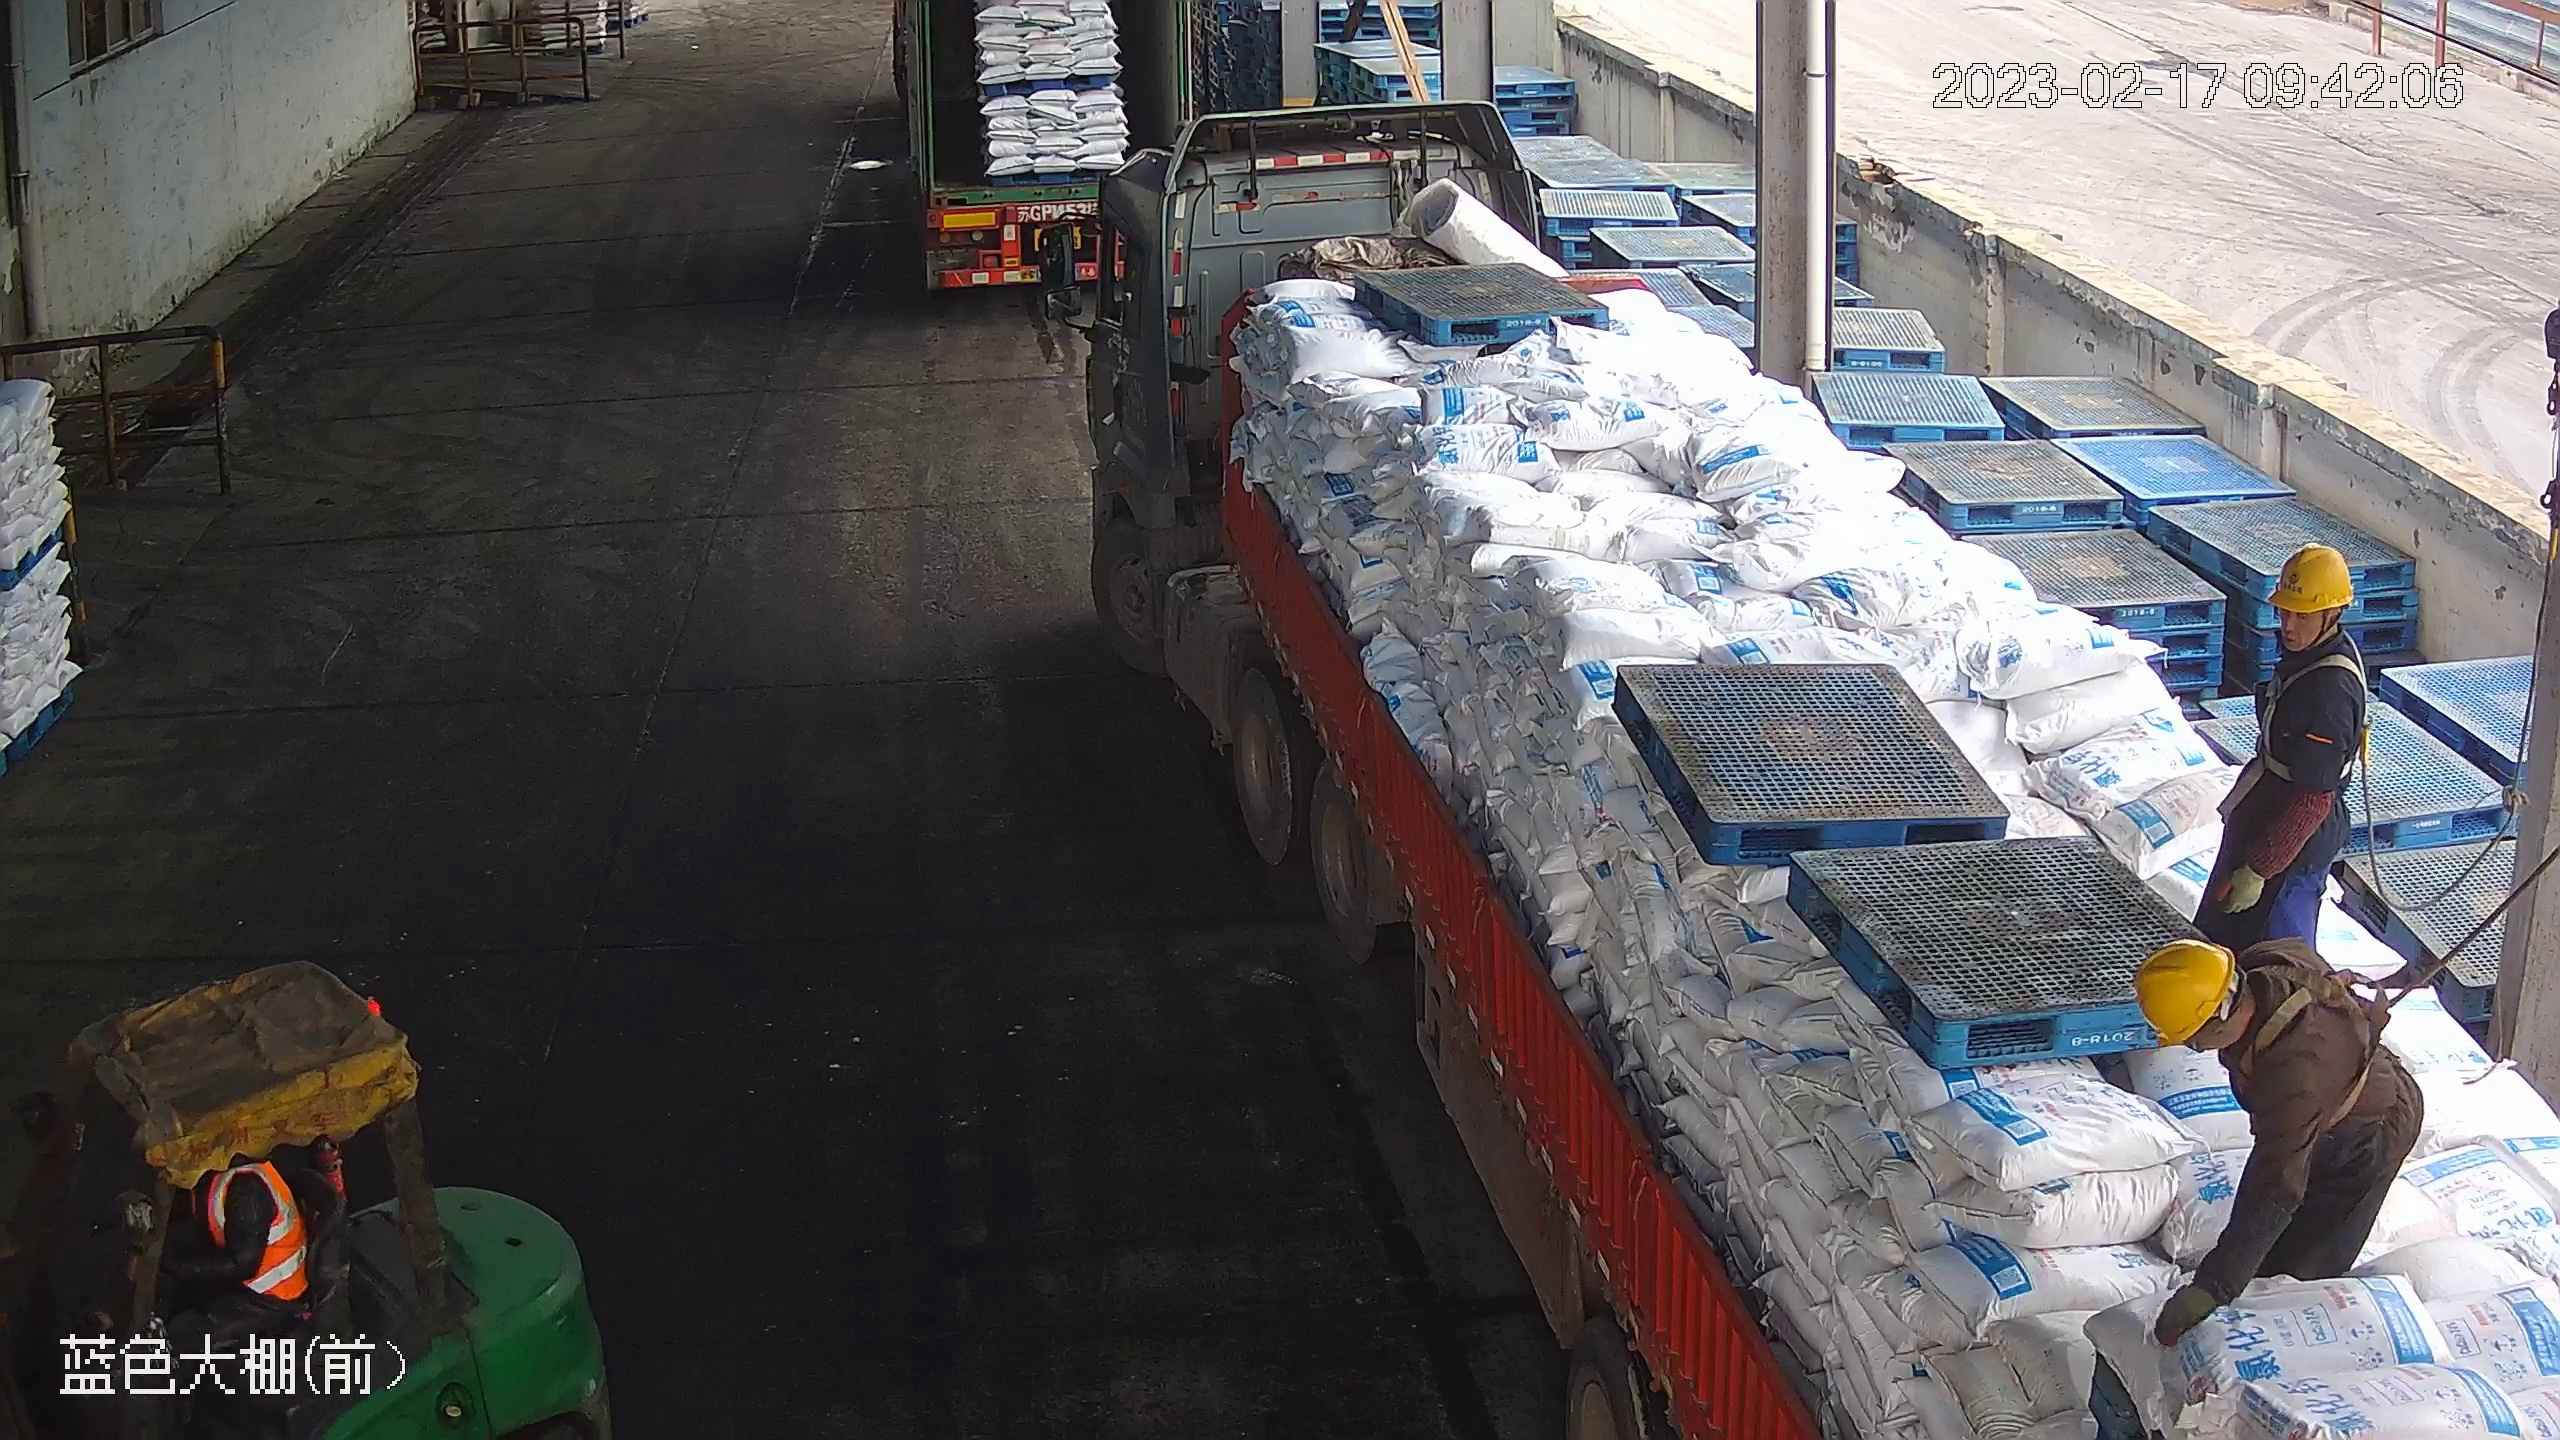belt: (2238, 938, 2393, 1121), (2255, 640, 2379, 786)
head: (2133, 937, 2345, 1094), (2249, 536, 2374, 721)
helmet: (2129, 939, 2235, 1051), (2261, 539, 2354, 613)
people: (2131, 934, 2426, 1374), (2195, 540, 2373, 967)
truck: (1040, 95, 2552, 1439), (889, 2, 1189, 293)
